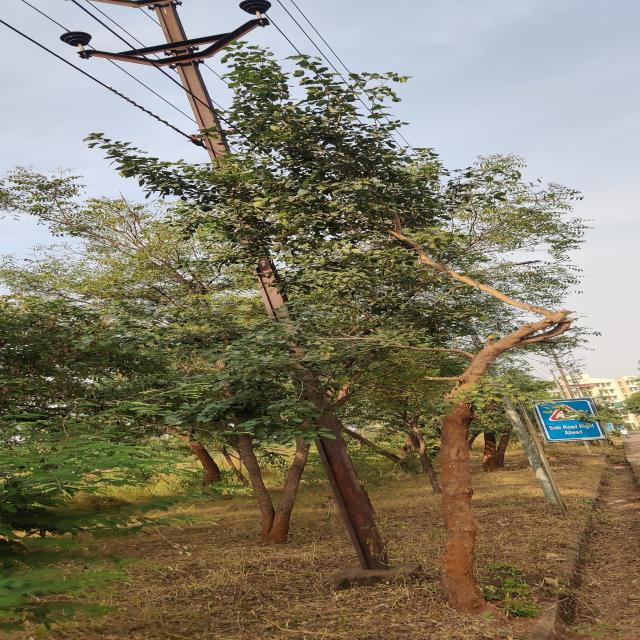Devakanchan tree: (150, 76, 585, 461)
